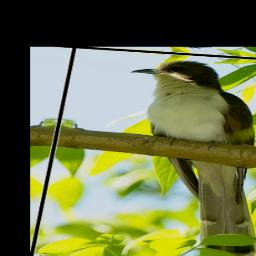Cuckoo: (91, 57, 256, 256)
